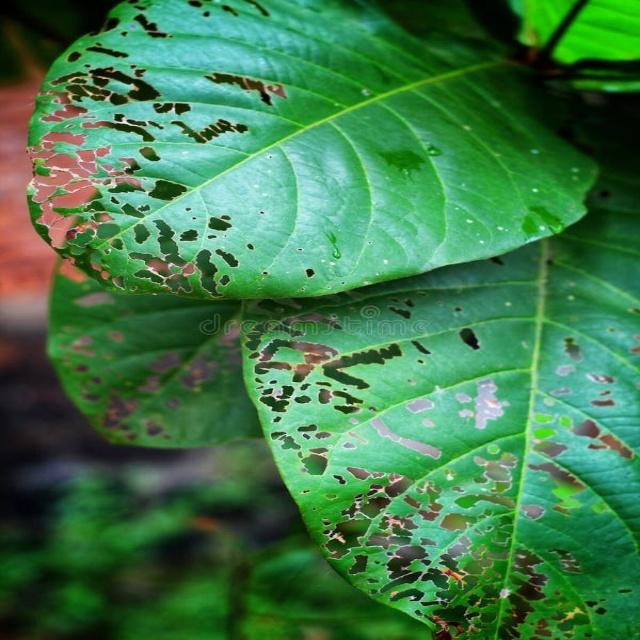shot_hole: (12, 0, 627, 302), (231, 267, 640, 640)
